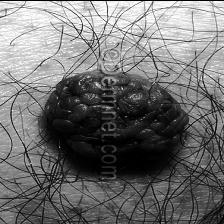Potentially Malignant Skin Tumors: (56, 72, 188, 156)
